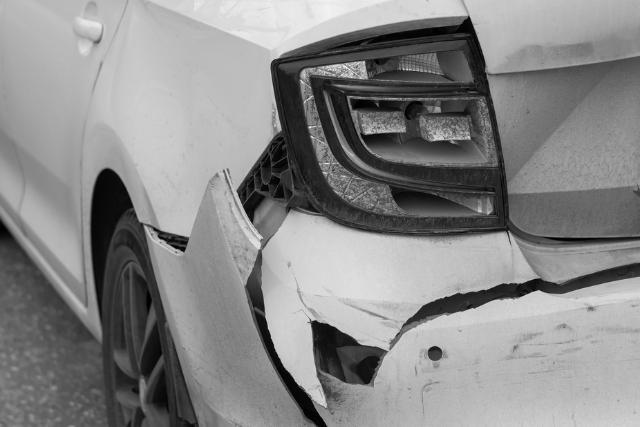Bumper: (262, 222, 640, 427)
Fender: (111, 62, 298, 239)
